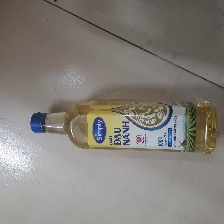Simply: (26, 98, 220, 155)
